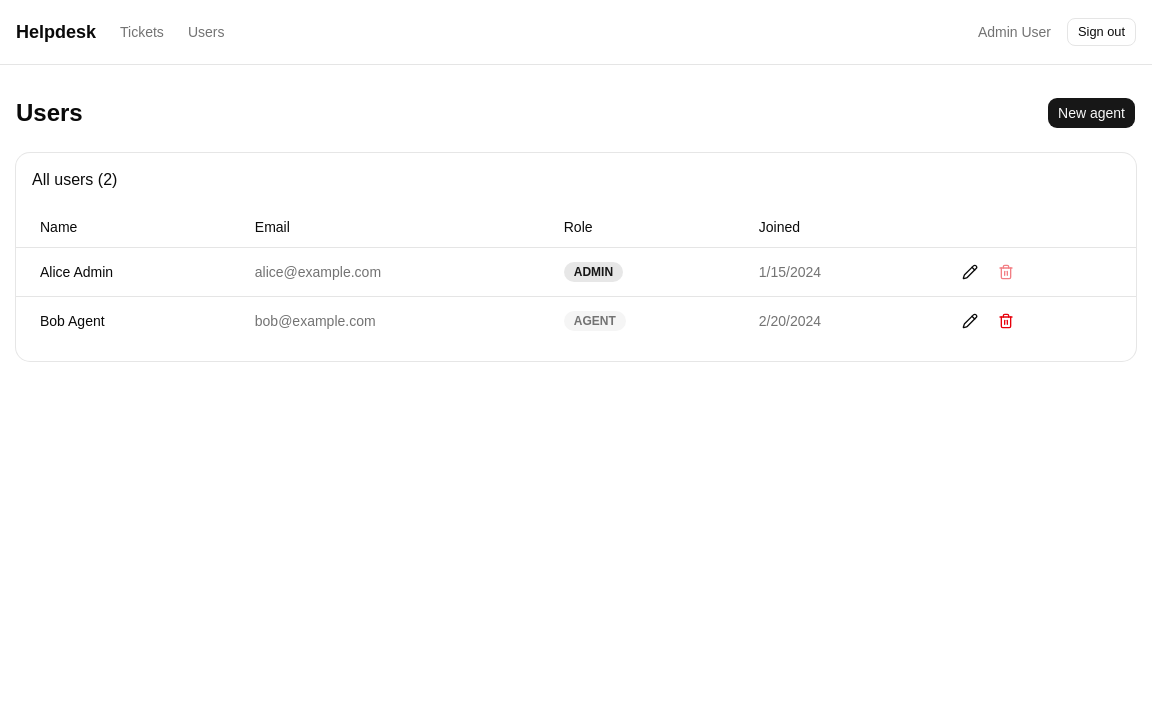
Test: UsersPage › "New agent" button › closes the dialog when Cancel is clicked
Expected: the text "Alice Admin" is shown, [16, 247, 231, 296]
Step 1. Click the button "New agent" → (1092, 113), box [1047, 97, 1136, 129]
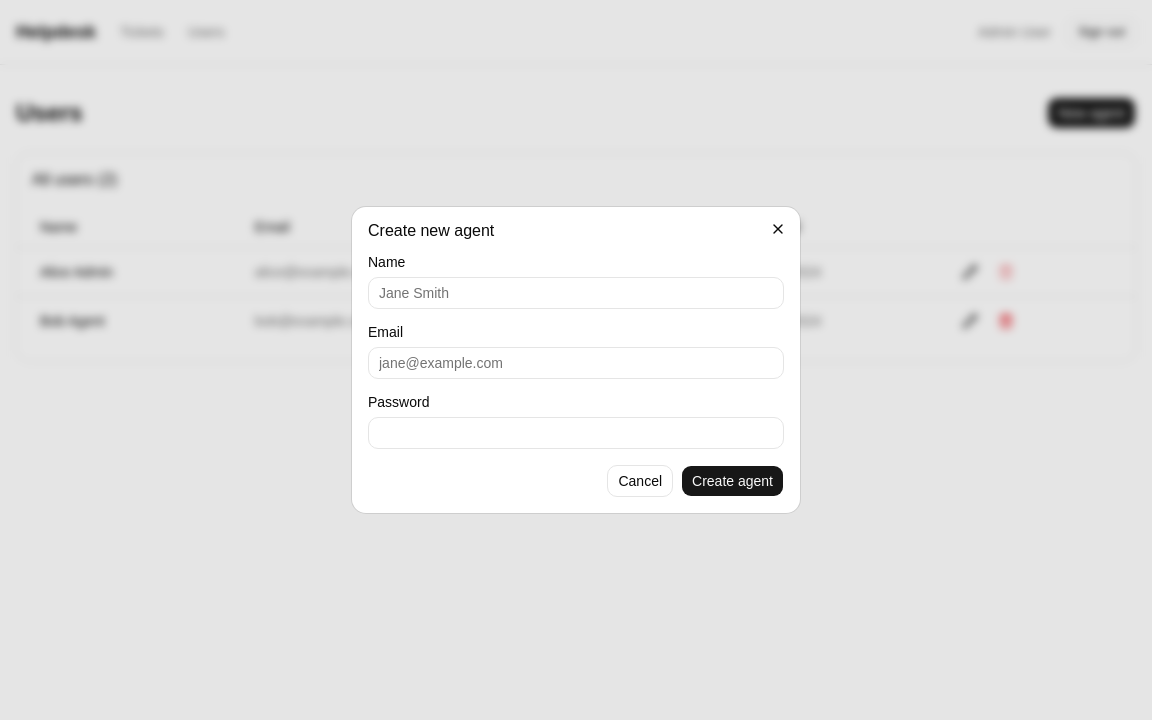
Now the heading "Create new agent" is shown, box [368, 222, 494, 239]
Step 2. Click the button "Cancel" → (640, 481), box [608, 465, 673, 497]
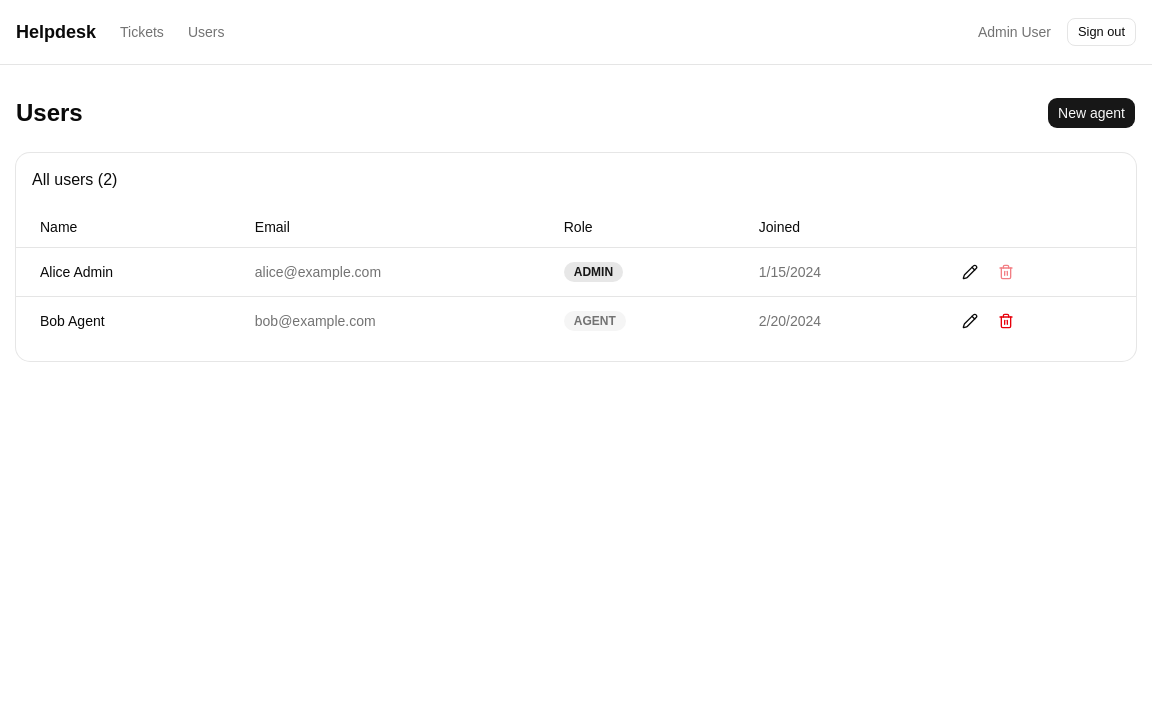
Now the heading "Create new agent" is gone
